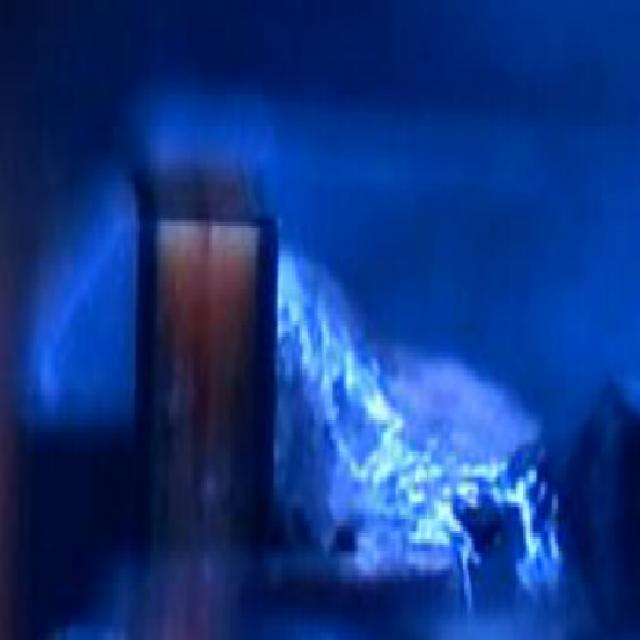Component: (98, 128, 286, 562)
Solder: (254, 212, 550, 590)
